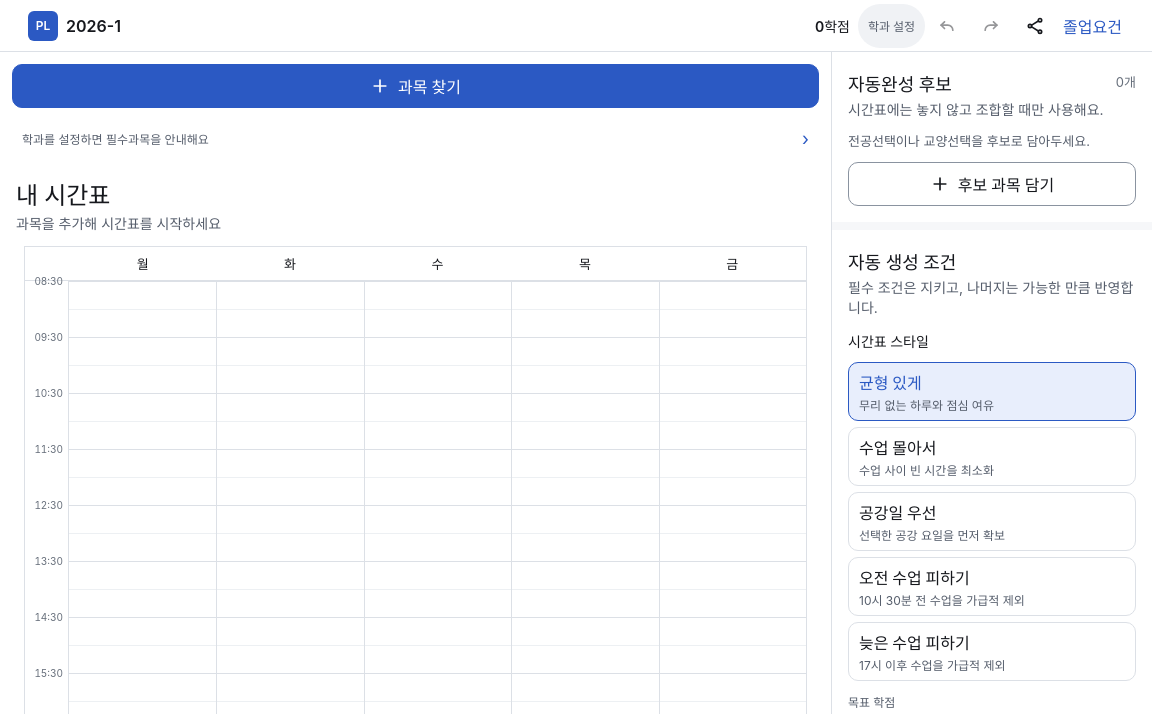
Test: editor command recovery › supports Ctrl/Cmd+Z and Shift+Ctrl/Cmd+Z outside editable controls
Click the button "과목 찾기" at [416, 86], box [12,64,819,108]
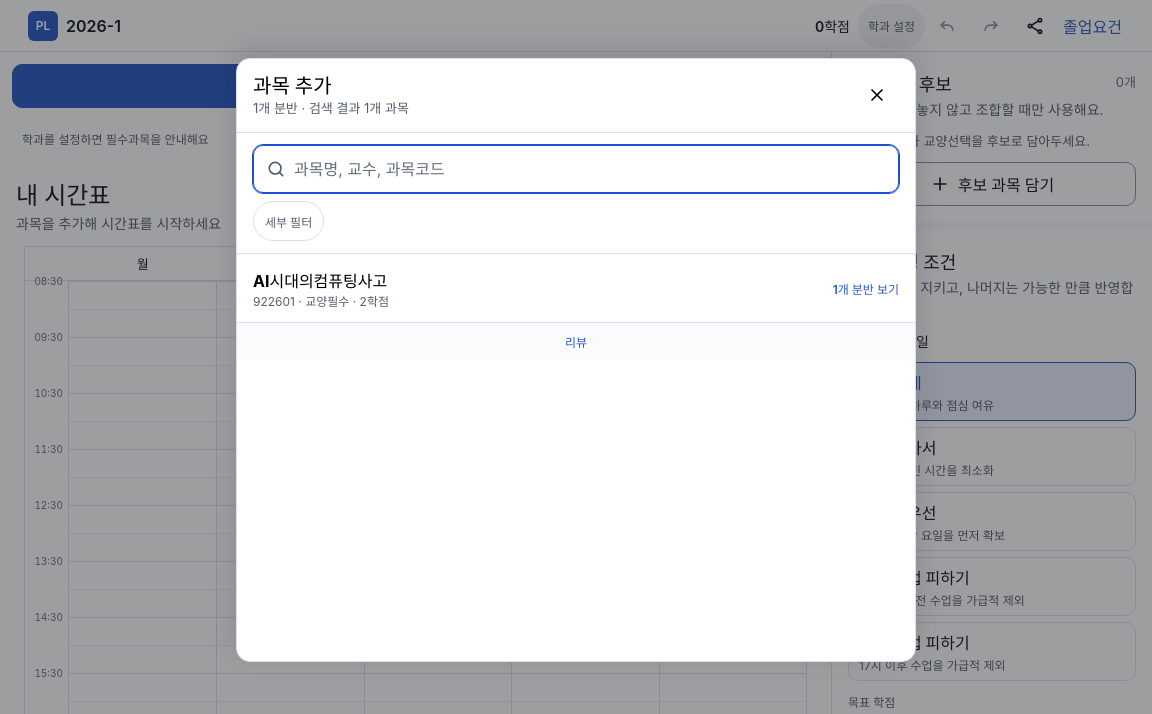
Click the button "AI시대의컴퓨팅사고 922601 · 교양필수 · 2학점 1개 분반 보기" at [320, 281], box [237,254,915,322]
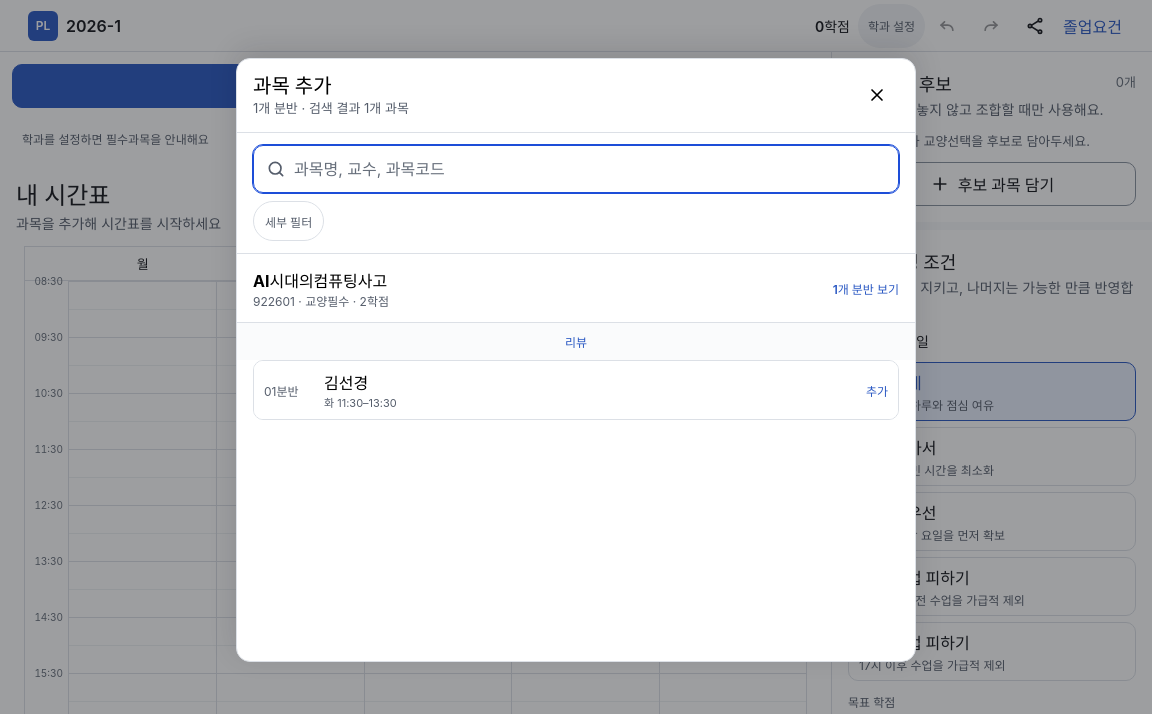
Click the button "01분반 김선경 화 11:30–13:30 추가" at [346, 383], box [254,361,898,419]
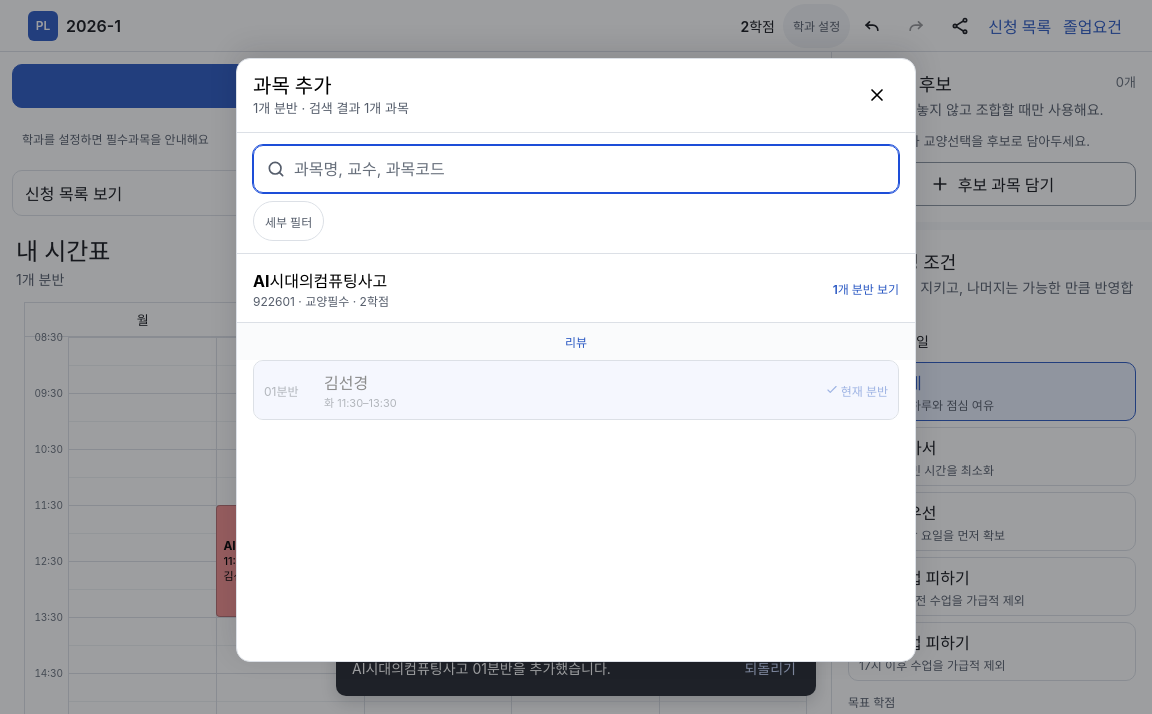
Result: the button with aria-label "AI시대의컴퓨팅사고 화" is shown at [216,505,364,617]
Press z
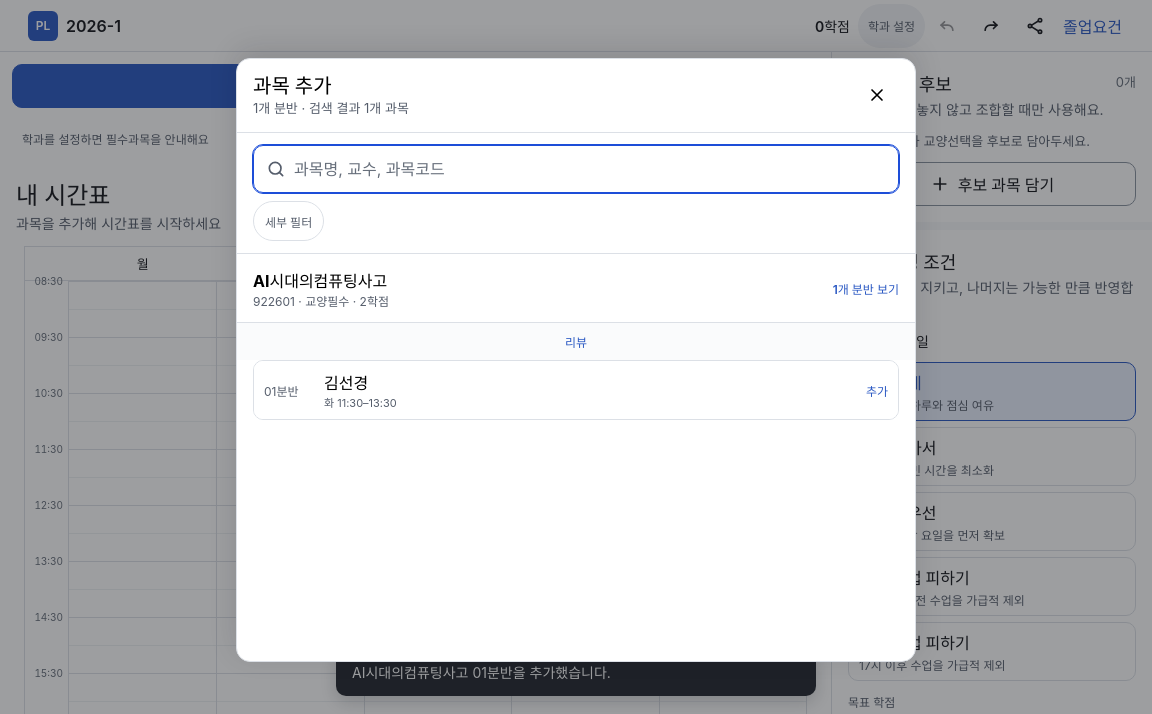
Press z
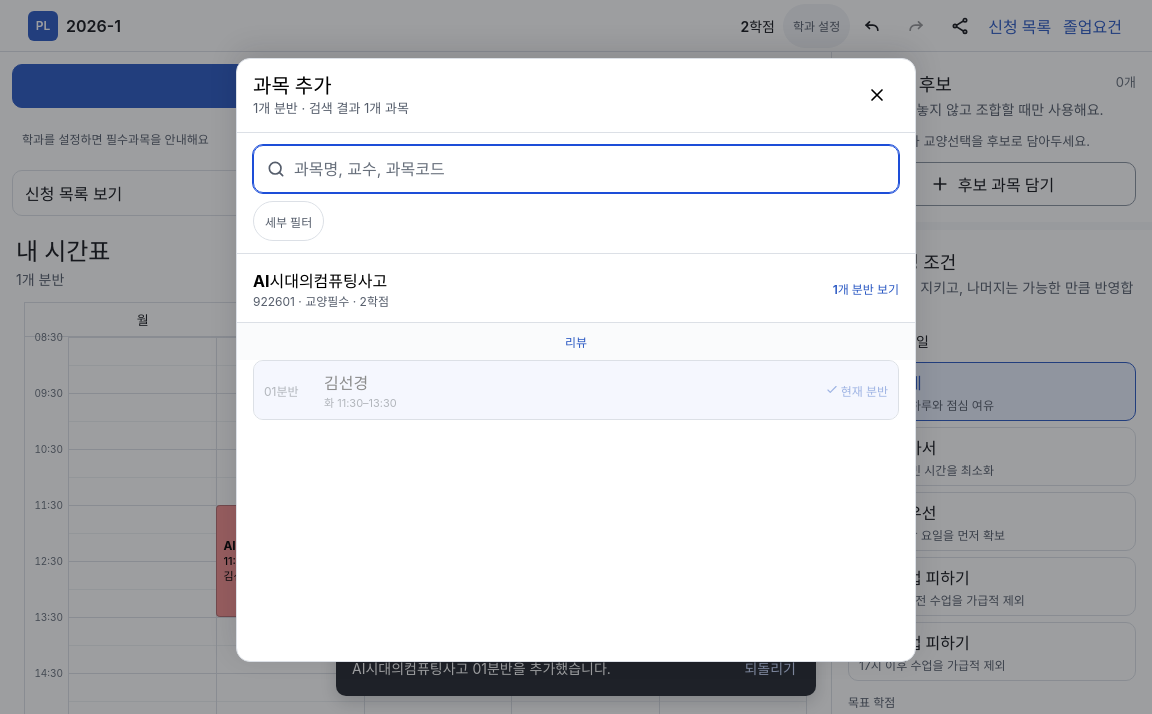
Result: the button with aria-label "AI시대의컴퓨팅사고 화" is shown at [216,505,364,617]
